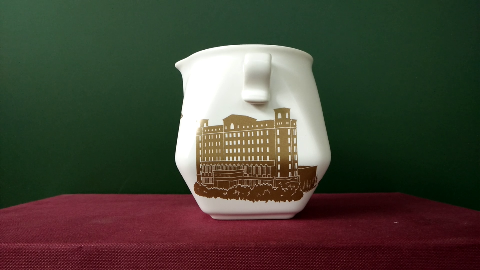law: (200, 128, 311, 192)
